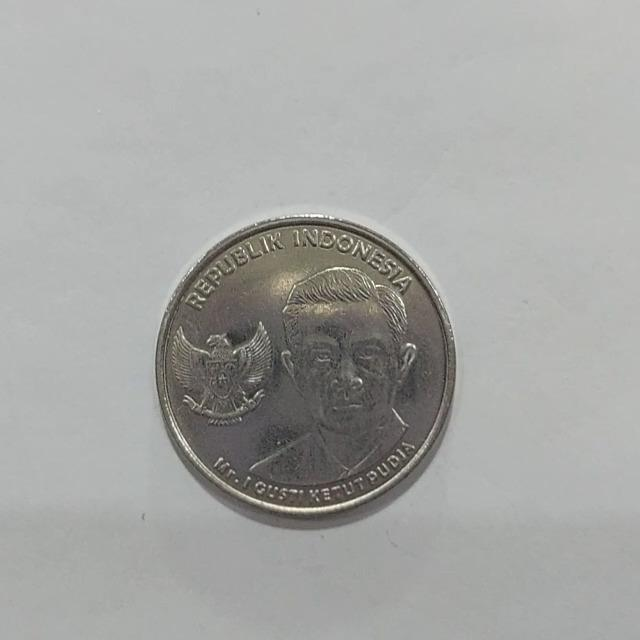Rp100: (153, 212, 457, 524), (242, 263, 421, 488)
